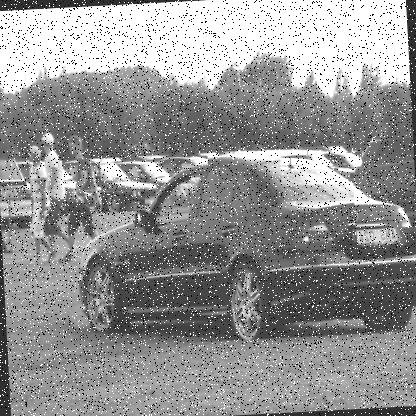Car: (63, 142, 415, 350), (350, 137, 415, 231), (16, 159, 102, 213), (88, 160, 158, 214), (118, 160, 191, 209), (279, 152, 354, 187), (0, 157, 33, 226), (152, 155, 208, 176), (320, 151, 362, 168)
